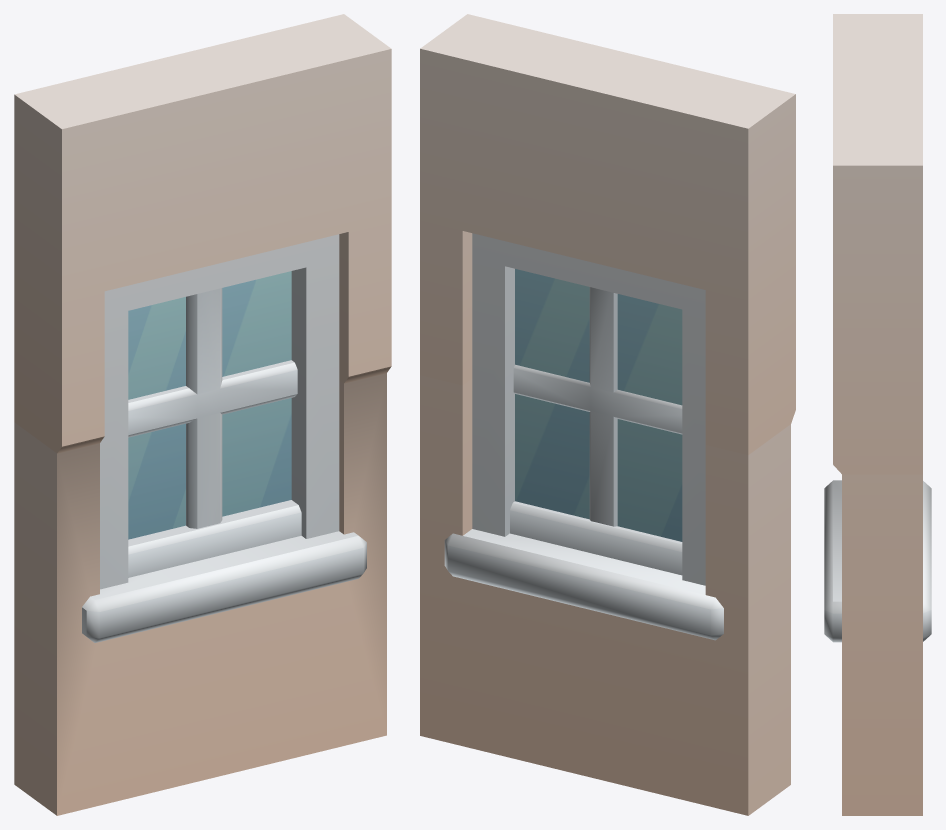
Rendered from Wall Plain Kitchen-reQyVpOQW3.glb.
3 views of the same model, side by side, from view 1: azimuth 30°, elevation 25°; view 2: azimuth 150°, elevation 25°; view 3: azimuth 270°, elevation 25° (orthographic). The views are drawn at different scales.
Parts seen in each view (by area): view 1: wall_plain_kitchen_window; view 2: wall_plain_kitchen_window; view 3: wall_plain_kitchen_window.
Boxes of the visible parts, left/top/right/bottom form: wall_plain_kitchen_window: left=14, top=14, right=391, bottom=815; wall_plain_kitchen_window: left=420, top=14, right=795, bottom=815; wall_plain_kitchen_window: left=824, top=14, right=931, bottom=815.
Size of the model in its own units: 2 by 4 by 0.6.
Materials: 2 (2 with a texture image).
